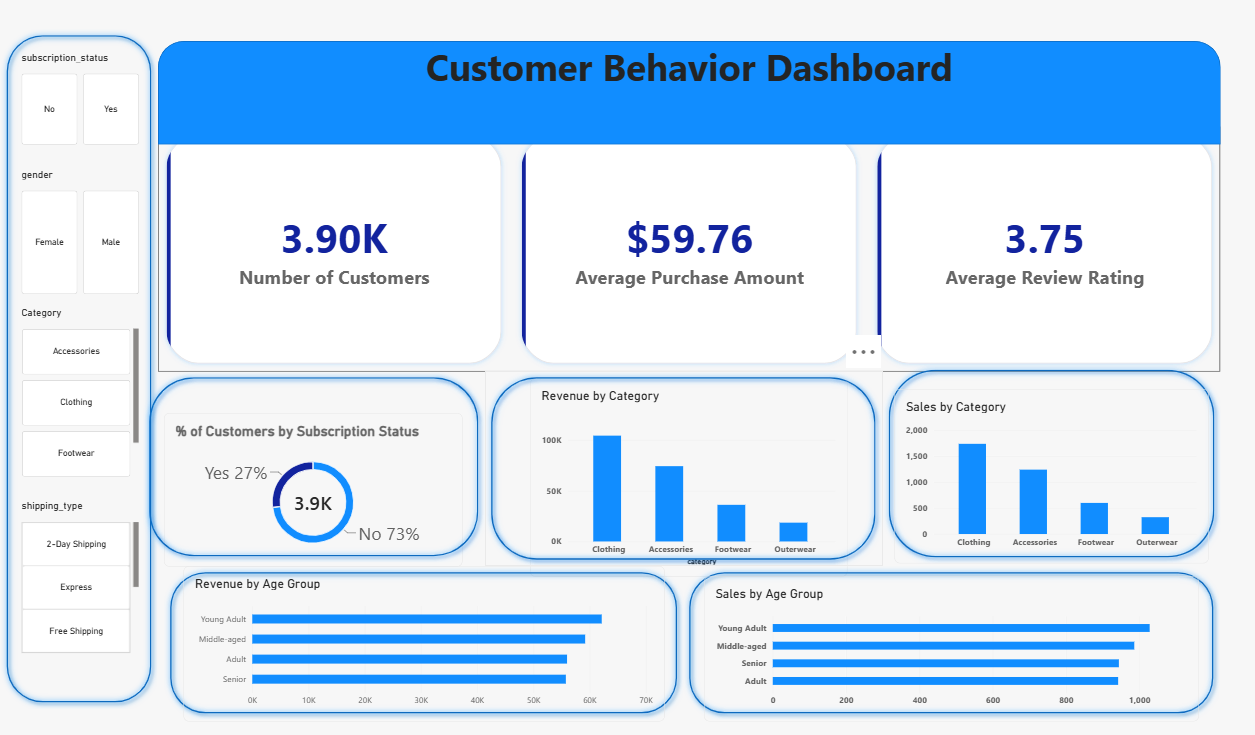

This screenshot's page, from the dashboard's own definition file:
{"tool":"powerbi","page":{"name":"Page 1","canvas":[1920,1080],"ordinal":0},"visuals":[{"type":"cardVisual","fields":{"Data":["mydatabase mytable.Number of Customers","mydatabase mytable.Average Purchase Amount","mydatabase mytable.Average Review Rating"]},"box":[277.5,185,1540,355],"z":0},{"type":"shape","box":[277.5,60,1540,150],"z":1000},{"type":"textbox","box":[277.5,60,1540,150],"z":2000},{"type":"donutChart","title":"% of Customers by Subscription Status","fields":{"Category":["mydatabase mytable.subscription_status"],"Y":["CountNonNull(mydatabase mytable.customer_id)"]},"box":[287.5,600,432.5,222.5],"z":3000},{"type":"clusteredColumnChart","title":"Revenue by Category","fields":{"Category":["mydatabase mytable.category"],"Y":["Sum(mydatabase mytable.purchase_amount)"]},"box":[817.5,550,460,287.5],"z":3001},{"type":"textbox","box":[485,0,1055,210],"z":3002},{"type":"shape","box":[257.5,540,495,277.5],"z":3004},{"type":"shape","box":[1327.5,527.5,490,290],"z":3005},{"type":"shape","box":[752.5,540,575,282.5],"z":3006},{"type":"clusteredColumnChart","title":"Sales by Category","fields":{"Category":["mydatabase mytable.category"],"Y":["CountNonNull(mydatabase mytable.customer_id)"]},"box":[1345,565,455,252.5],"z":3007},{"type":"shape","box":[50,42.5,227.5,985],"z":3008},{"type":"advancedSlicerVisual","fields":{"Values":["mydatabase mytable.subscription_status"]},"box":[80,75,170,135],"z":3009},{"type":"advancedSlicerVisual","fields":{"Values":["mydatabase mytable.gender"]},"box":[80,245,170,182.5],"z":3010},{"type":"advancedSlicerVisual","fields":{"Values":["mydatabase mytable.category"]},"box":[80,445,170,247.5],"z":3011},{"type":"advancedSlicerVisual","fields":{"Values":["mydatabase mytable.shipping_type"]},"box":[80,726,170,222.5],"z":3012},{"type":"shape","box":[287.5,822.5,752.5,222.5],"z":3013},{"type":"shape","box":[1040,822.5,777.5,222.5],"z":3014},{"type":"clusteredBarChart","title":"Revenue by Age Group","fields":{"Category":["mydatabase mytable.age_group"],"Y":["Sum(mydatabase mytable.purchase_amount)"]},"box":[315,822.5,697.5,225],"z":3015},{"type":"clusteredBarChart","title":"Sales by Age Group","fields":{"Category":["mydatabase mytable.age_group"],"Y":["CountNonNull(mydatabase mytable.customer_id)"]},"box":[1070,837.5,717.5,210],"z":3016}]}

Visuals, with their boxes in screenshot pixels (x1, y1, x2, y2):
cardVisual - mydatabase mytable.Number of Customers x mydatabase mytable.Average Purchase Amount: l=147, t=122, r=1214, b=368
shape: l=147, t=35, r=1214, b=139
textbox: l=147, t=35, r=1214, b=139
"% of Customers by Subscription Status" donutChart: l=153, t=409, r=453, b=563
"Revenue by Category" clusteredColumnChart: l=521, t=375, r=839, b=574
textbox: l=290, t=0, r=1021, b=139
shape: l=133, t=368, r=476, b=560
shape: l=874, t=359, r=1214, b=560
shape: l=476, t=368, r=874, b=563
"Sales by Category" clusteredColumnChart: l=886, t=385, r=1201, b=560
shape: l=0, t=23, r=147, b=705
advancedSlicerVisual - mydatabase mytable.subscription_status: l=10, t=45, r=127, b=139
advancedSlicerVisual - mydatabase mytable.gender: l=10, t=163, r=127, b=290
advancedSlicerVisual - mydatabase mytable.category: l=10, t=302, r=127, b=473
advancedSlicerVisual - mydatabase mytable.shipping_type: l=10, t=496, r=127, b=651
shape: l=153, t=563, r=675, b=717
shape: l=675, t=563, r=1214, b=717
"Revenue by Age Group" clusteredBarChart: l=172, t=563, r=656, b=719
"Sales by Age Group" clusteredBarChart: l=696, t=574, r=1193, b=719
